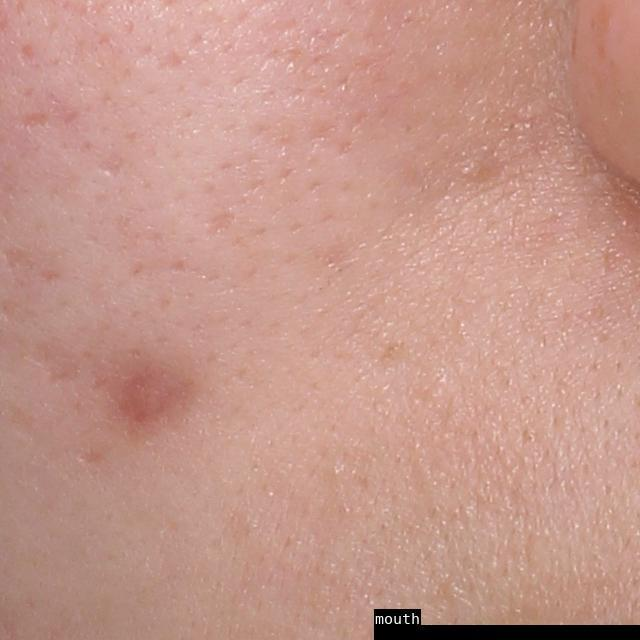atrophic_scar: (37, 341, 79, 381), (97, 152, 122, 179), (209, 212, 235, 236)
